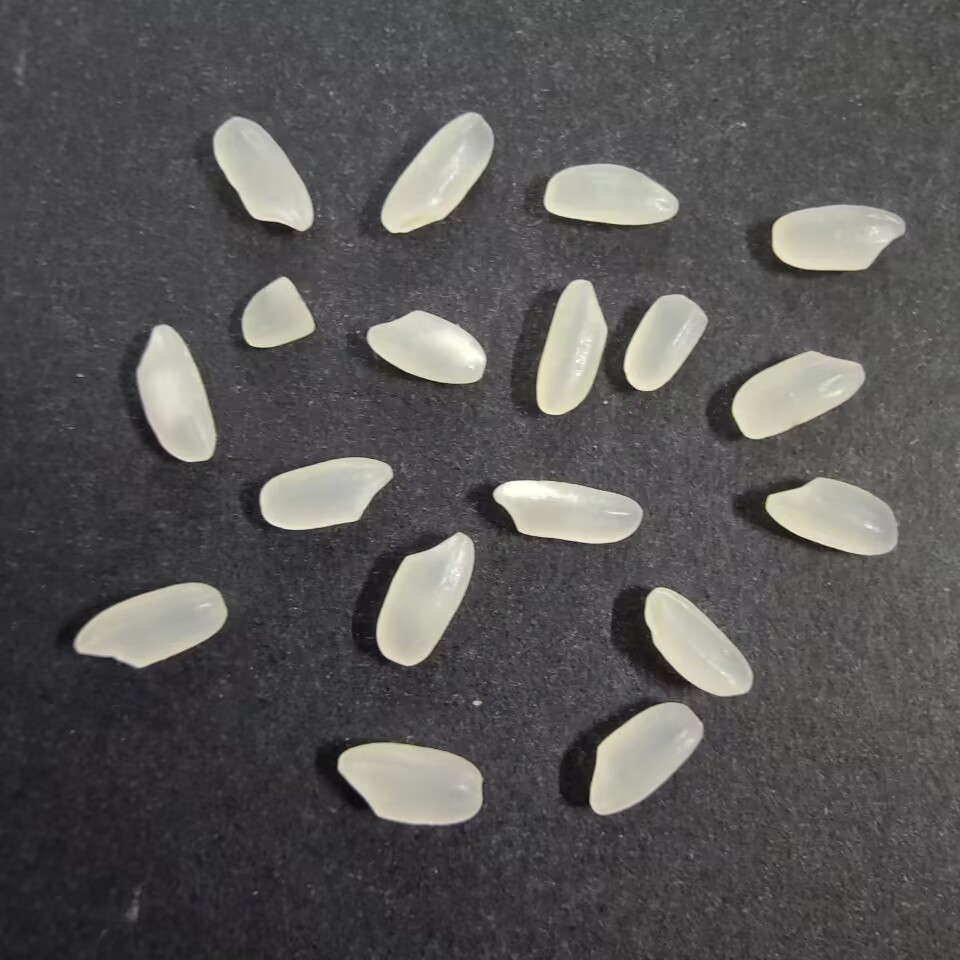broken: (621, 292, 708, 394), (235, 273, 318, 353)
rice: (377, 107, 495, 238), (372, 531, 478, 671), (584, 699, 706, 819), (70, 579, 232, 669), (640, 583, 759, 700), (334, 738, 484, 827), (730, 348, 868, 441), (211, 115, 318, 234), (133, 323, 220, 465), (764, 474, 900, 560), (255, 454, 394, 533), (532, 274, 606, 420), (360, 307, 489, 389), (488, 478, 643, 546), (767, 203, 908, 273), (539, 160, 679, 230)
